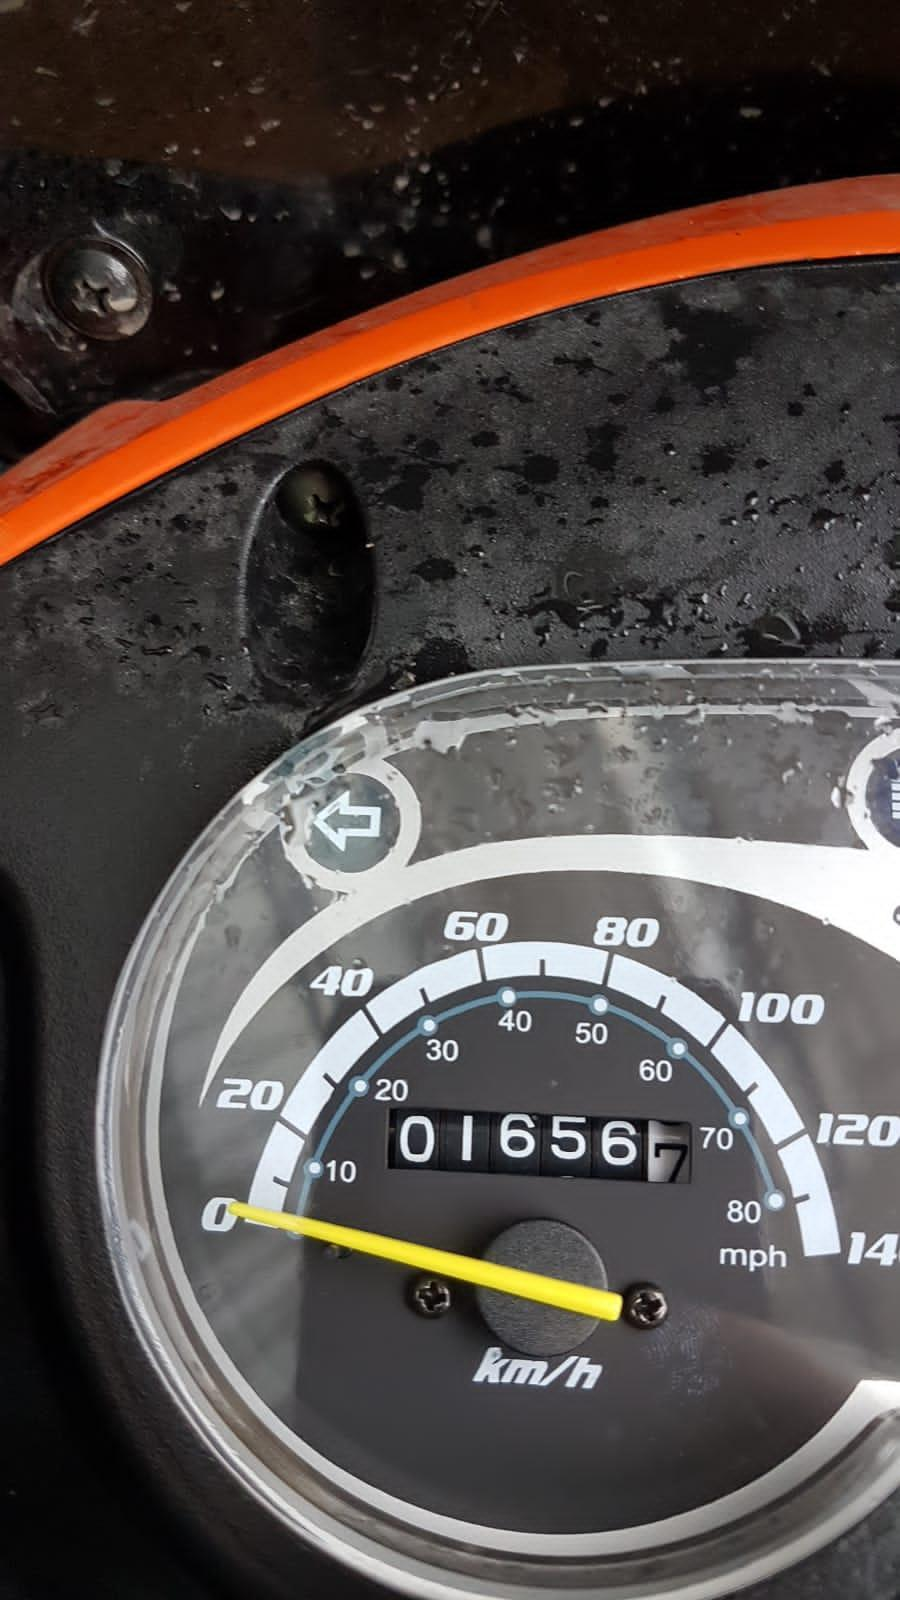0: (397, 1112, 437, 1164)
1: (455, 1112, 479, 1165)
5: (549, 1113, 588, 1163)
6: (597, 1116, 641, 1169), (495, 1112, 538, 1162)
7: (651, 1138, 690, 1184)
odometer: (378, 1096, 697, 1192)
